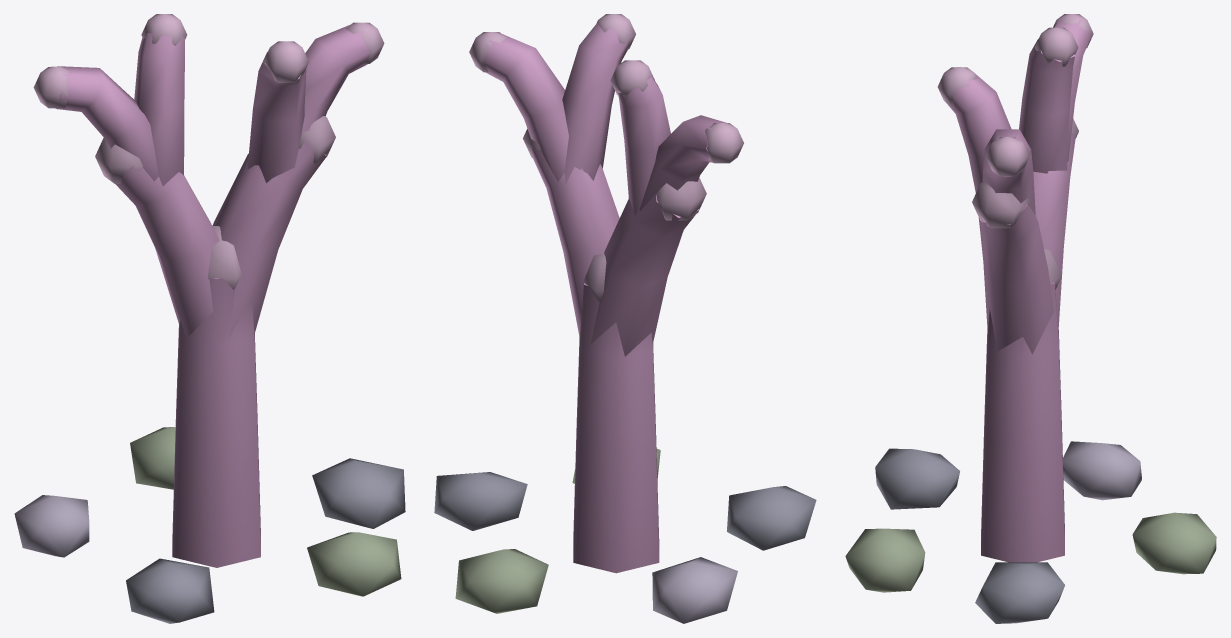
File: prop_coral.glb
The picture shows the model from 3 angles, left to right: view 1: azimuth 30°, elevation 25°; view 2: azimuth 150°, elevation 25°; view 3: azimuth 270°, elevation 25°; orthographic projection. The views are drawn at different scales.
Parts seen in each view (by area): view 1: prop_coral; view 2: prop_coral; view 3: prop_coral.
Boxes of the visible parts, x1,y1,x2,y2 form: prop_coral: [14, 14, 405, 623]; prop_coral: [434, 14, 816, 623]; prop_coral: [845, 14, 1216, 623].
Size of the model in its own units: 0.3838 by 0.5849 by 0.3818.
